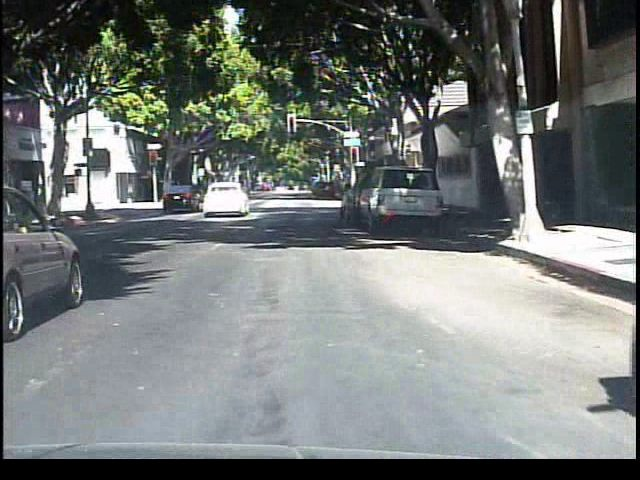person: (199, 170, 223, 213)
